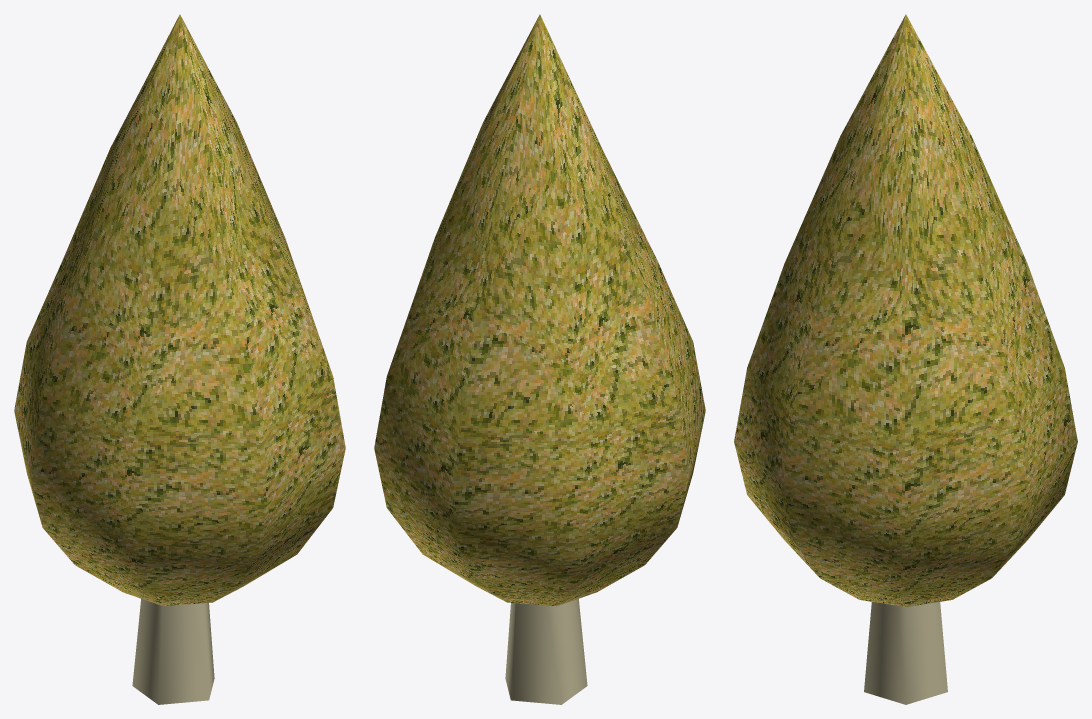
The model's file is tree5.glb.
3 renders of one model, left to right at view 1: azimuth 30°, elevation 25°; view 2: azimuth 150°, elevation 25°; view 3: azimuth 270°, elevation 25°, orthographic.
Visible parts, largest first — view 1: trees; view 2: trees; view 3: trees.
Boxes of the visible parts, box(x1,y1,x2,y2) form: trees: box(14, 14, 345, 704); trees: box(374, 14, 705, 704); trees: box(734, 14, 1077, 704).
Size of the model in its own units: 2.87 by 6.21 by 2.87.
2 materials, 1 textured.
